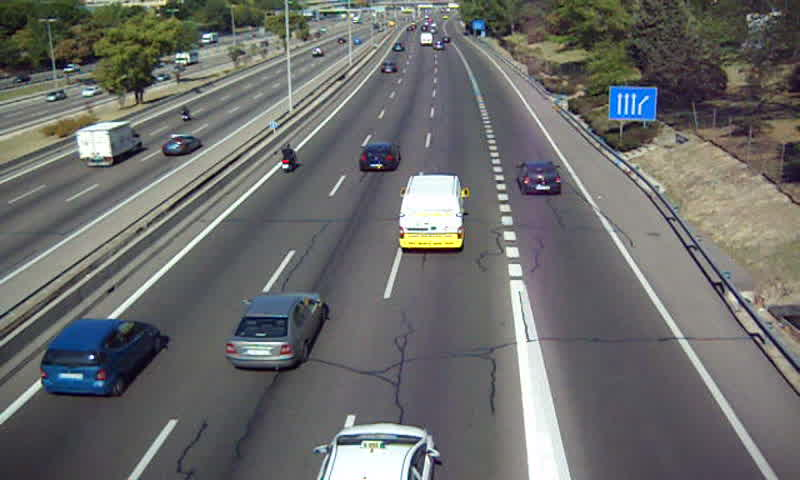car: (41, 319, 160, 394), (227, 292, 324, 372), (516, 161, 565, 197), (359, 144, 401, 173), (379, 61, 398, 76)
motorcycle: (277, 144, 296, 176)
van: (399, 175, 462, 248)
